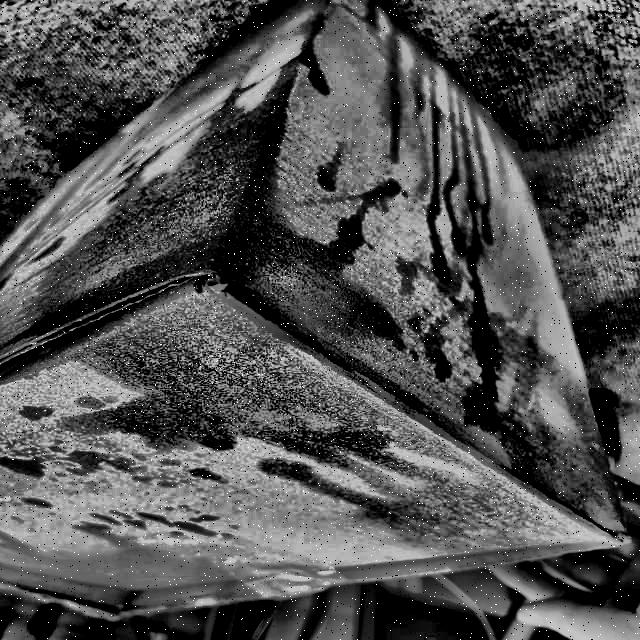box: (1, 1, 635, 624)
wet: (117, 89, 340, 397), (457, 307, 636, 545), (11, 529, 236, 622)
